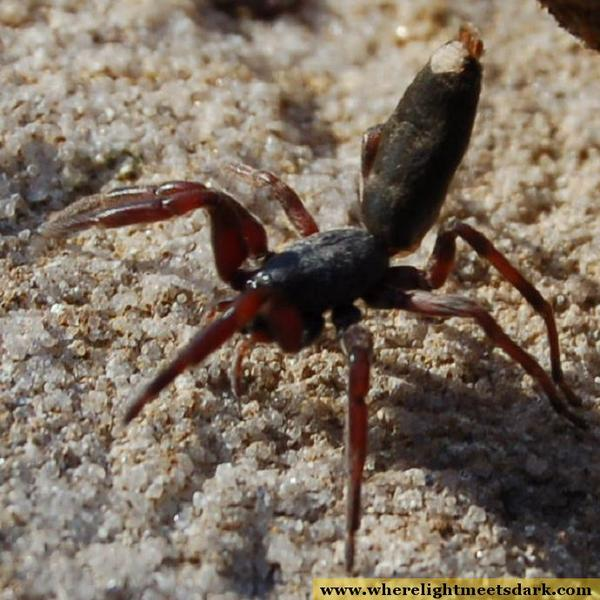White-Tailed_Spider: (42, 27, 563, 573)
